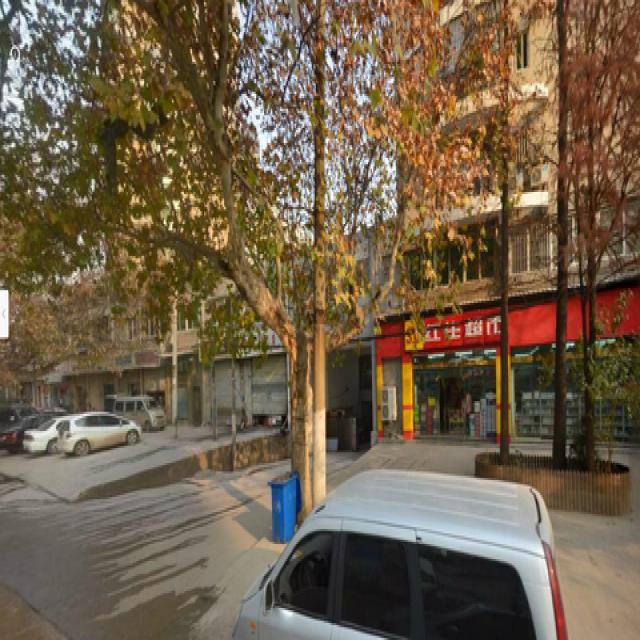meta: (115, 26, 408, 484)
